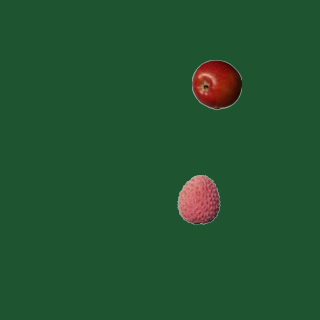Apple Braeburn: (191, 59, 241, 109)
Lychee: (173, 174, 223, 224)
